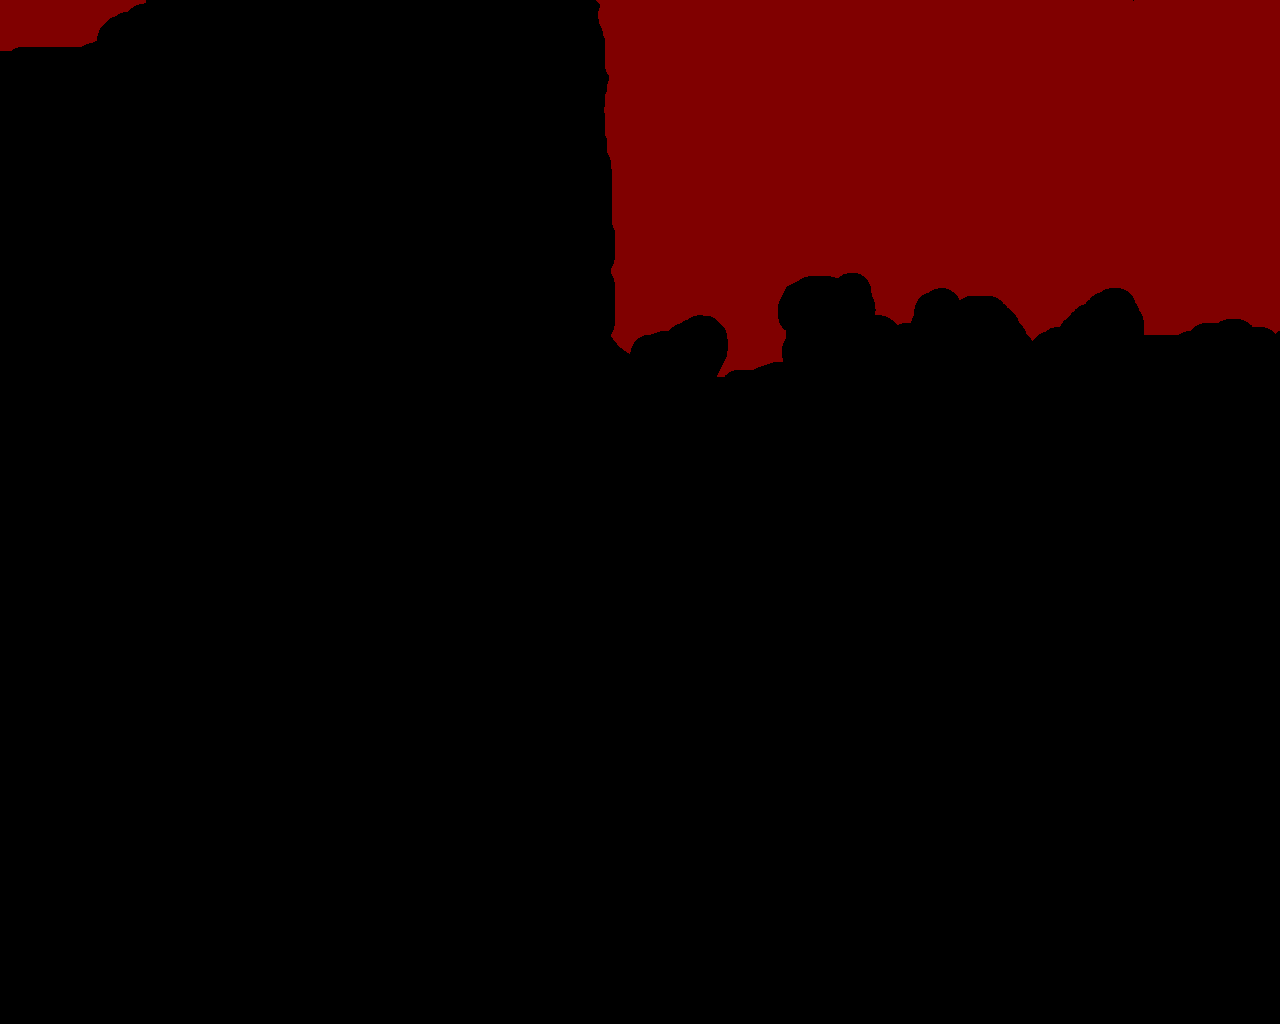Sky: (1, 1, 1279, 377)
